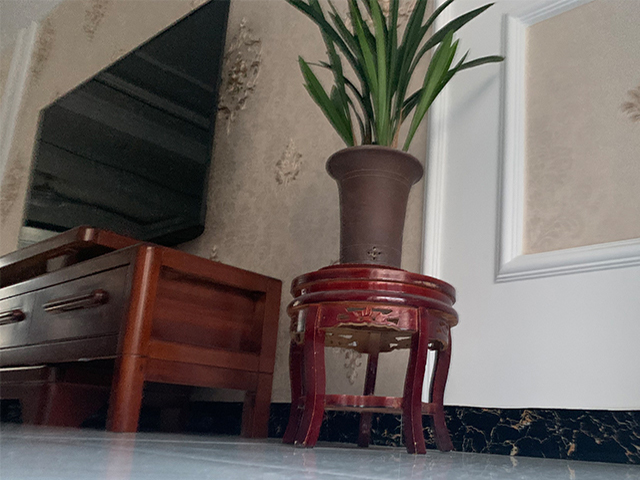cabinet: (1, 226, 284, 439)
stool: (283, 263, 460, 456)
